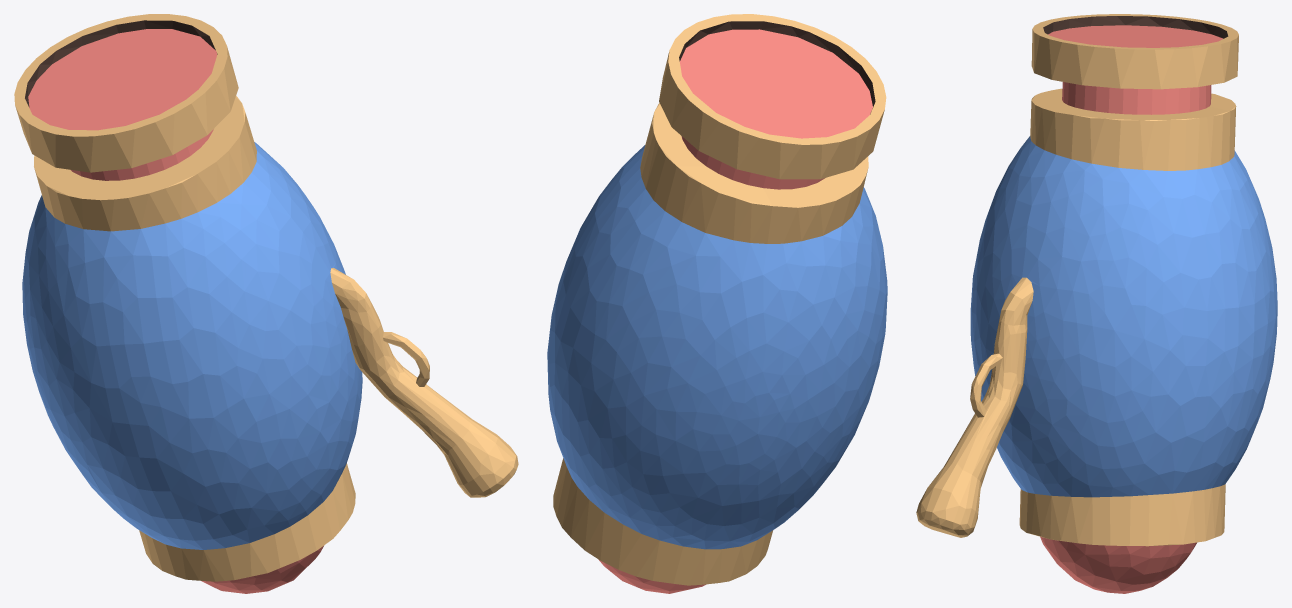
Rendered from tideGun.fbx.
3 views of the same model, side by side, from view 1: azimuth 30°, elevation 25°; view 2: azimuth 150°, elevation 25°; view 3: azimuth 270°, elevation 25° (orthographic). The views are drawn at different scales.
Visible parts, largest first — view 1: tide pod gun1; view 2: tide pod gun1; view 3: tide pod gun1.
Part boxes in pixels (<box>): tide pod gun1: <box>14,14,518,593</box>; tide pod gun1: <box>547,14,887,593</box>; tide pod gun1: <box>916,14,1277,593</box>.
Size of the model in its own units: 0.8172 by 1.13 by 0.7074.
